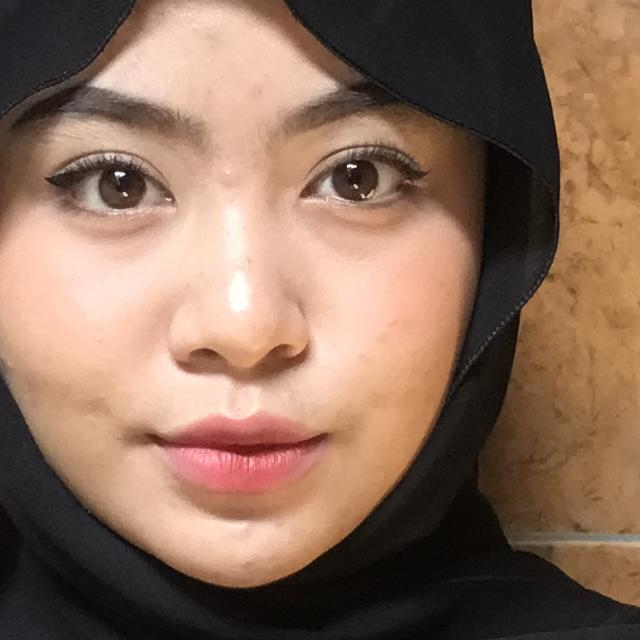ibu: (0, 216, 300, 640)
